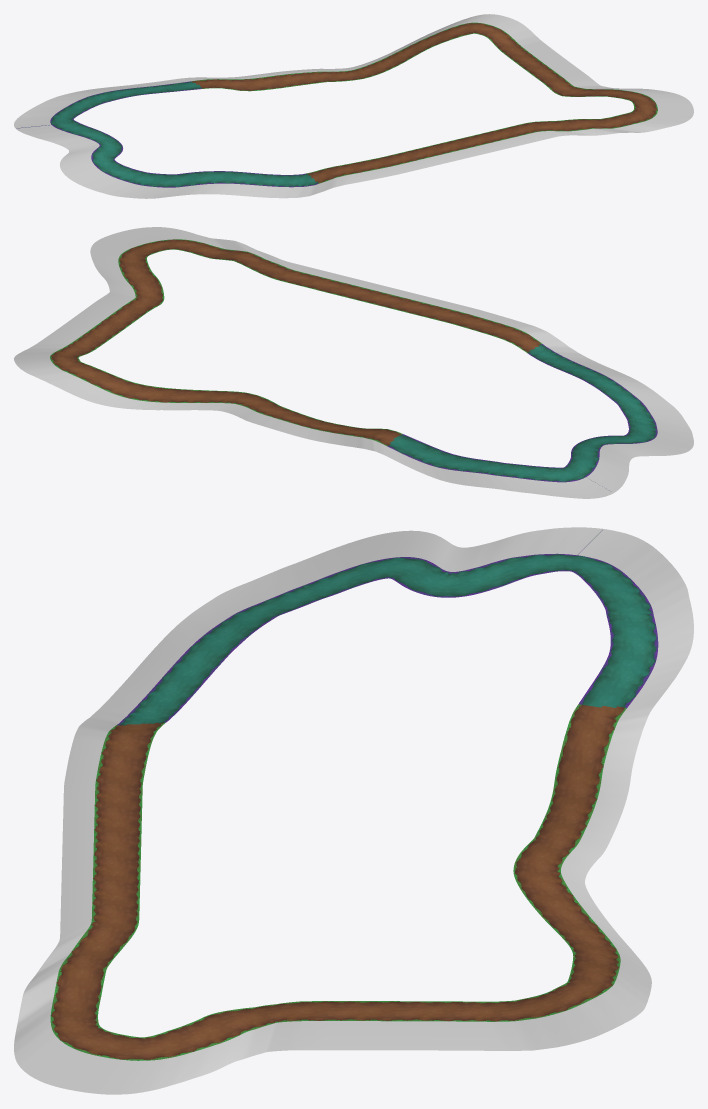
Rendered from Road_Wings.fbx.
3 renders of one model, top to bottom at view 1: azimuth 30°, elevation 25°; view 2: azimuth 150°, elevation 25°; view 3: azimuth 270°, elevation 25°, orthographic. The views are drawn at different scales.
Visible parts, largest first — view 1: Road; view 2: Road; view 3: Road.
Boxes of the visible parts, x1=… form: Road: x1=14, y1=14, x2=693, y2=198; Road: x1=14, y1=227, x2=693, y2=498; Road: x1=14, y1=527, x2=693, y2=1094.
Bounding box in the file's own units: 22.58 × 0.9476 × 12.
